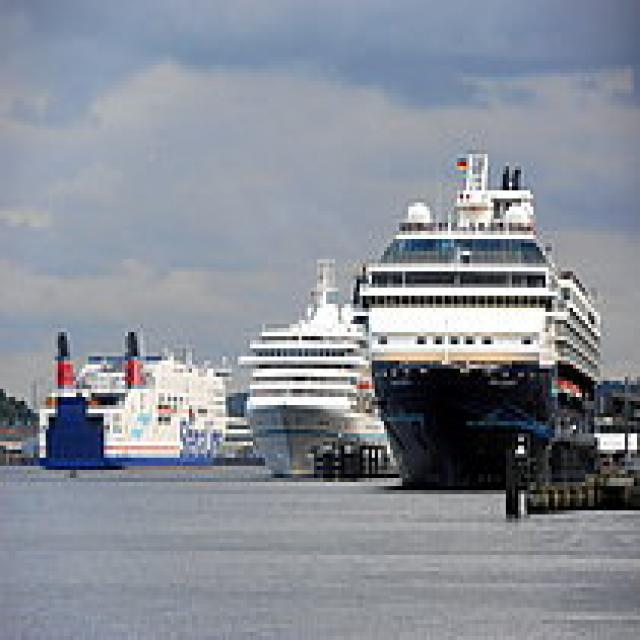Ship: (349, 147, 620, 496), (233, 248, 395, 491), (41, 313, 239, 487)
